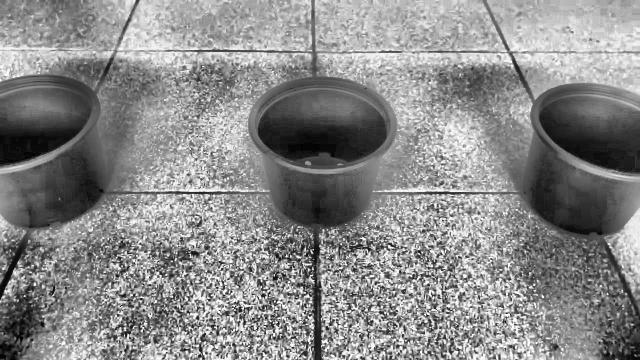pot: (248, 78, 396, 227), (520, 84, 640, 236), (0, 76, 108, 229)
